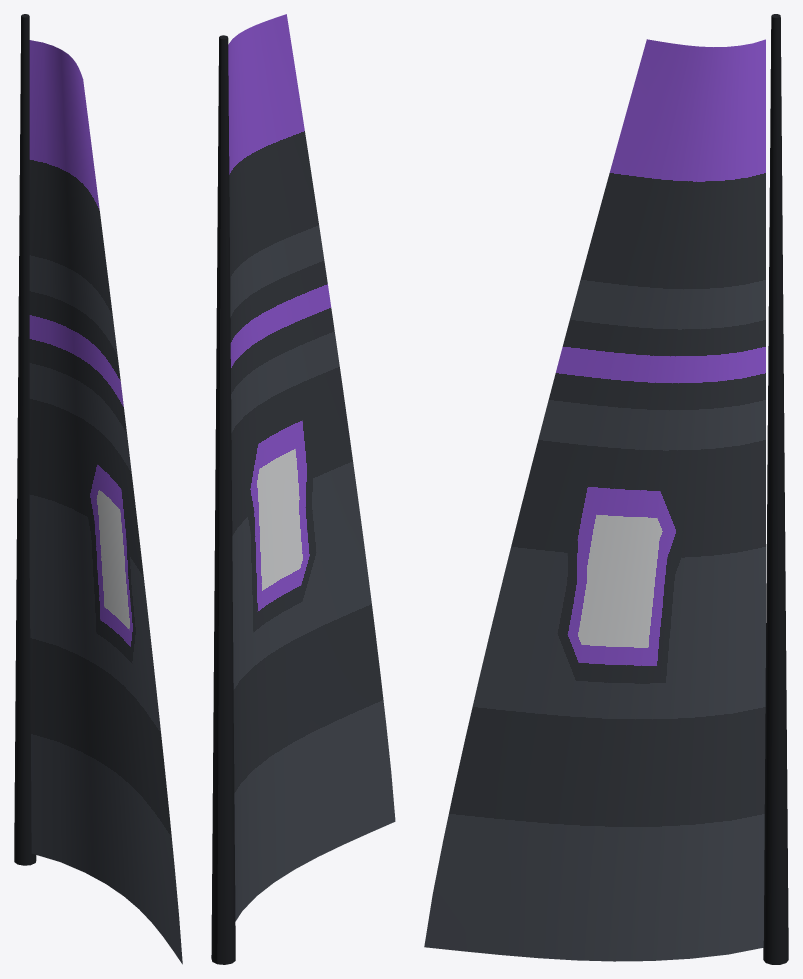
The model's file is rig_4_s.glb.
3 renders of one model, left to right at view 1: azimuth 30°, elevation 25°; view 2: azimuth 150°, elevation 25°; view 3: azimuth 270°, elevation 25°, orthographic. The views are drawn at different scales.
Parts seen in each view (by area): view 1: rig_4_s_body; view 2: rig_4_s_body; view 3: rig_4_s_body.
Part boxes in pixels (x1,y1,x2,y2): rig_4_s_body: (14,14,182,964); rig_4_s_body: (211,14,395,964); rig_4_s_body: (424,14,788,964).
Size of the model in its own units: 1.15 by 26.2 by 9.17.
Materials: 1 (1 with a texture image).
